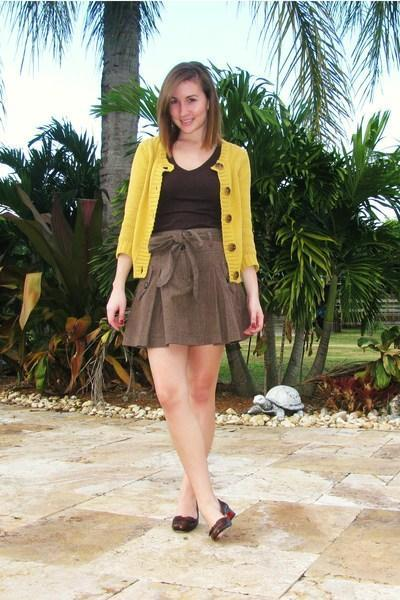jacket: (116, 134, 258, 299)
shirt: (152, 156, 222, 234)
shoe: (172, 499, 237, 539)
skirt: (118, 221, 252, 347)
